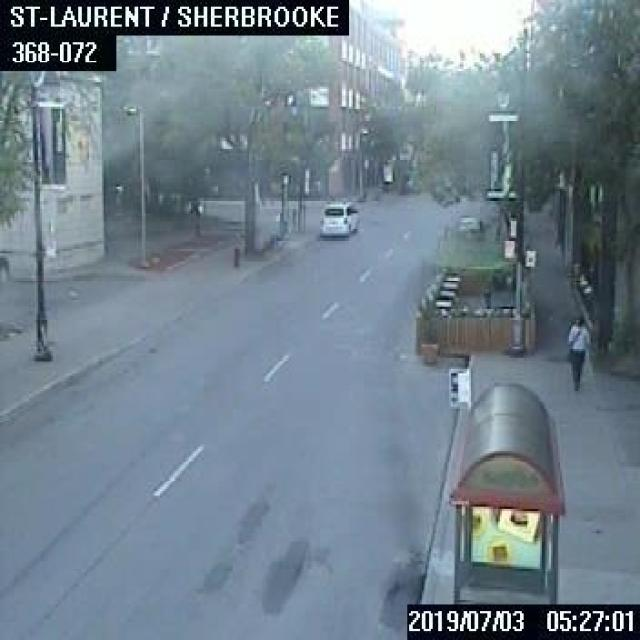pedestrian: (566, 316, 589, 391)
vehicle: (316, 200, 360, 238), (453, 211, 480, 240)
